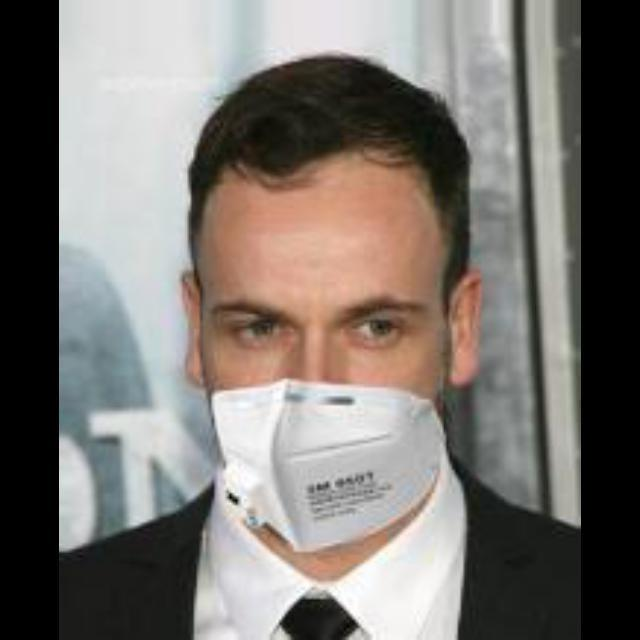suspicion: (149, 46, 515, 528)
